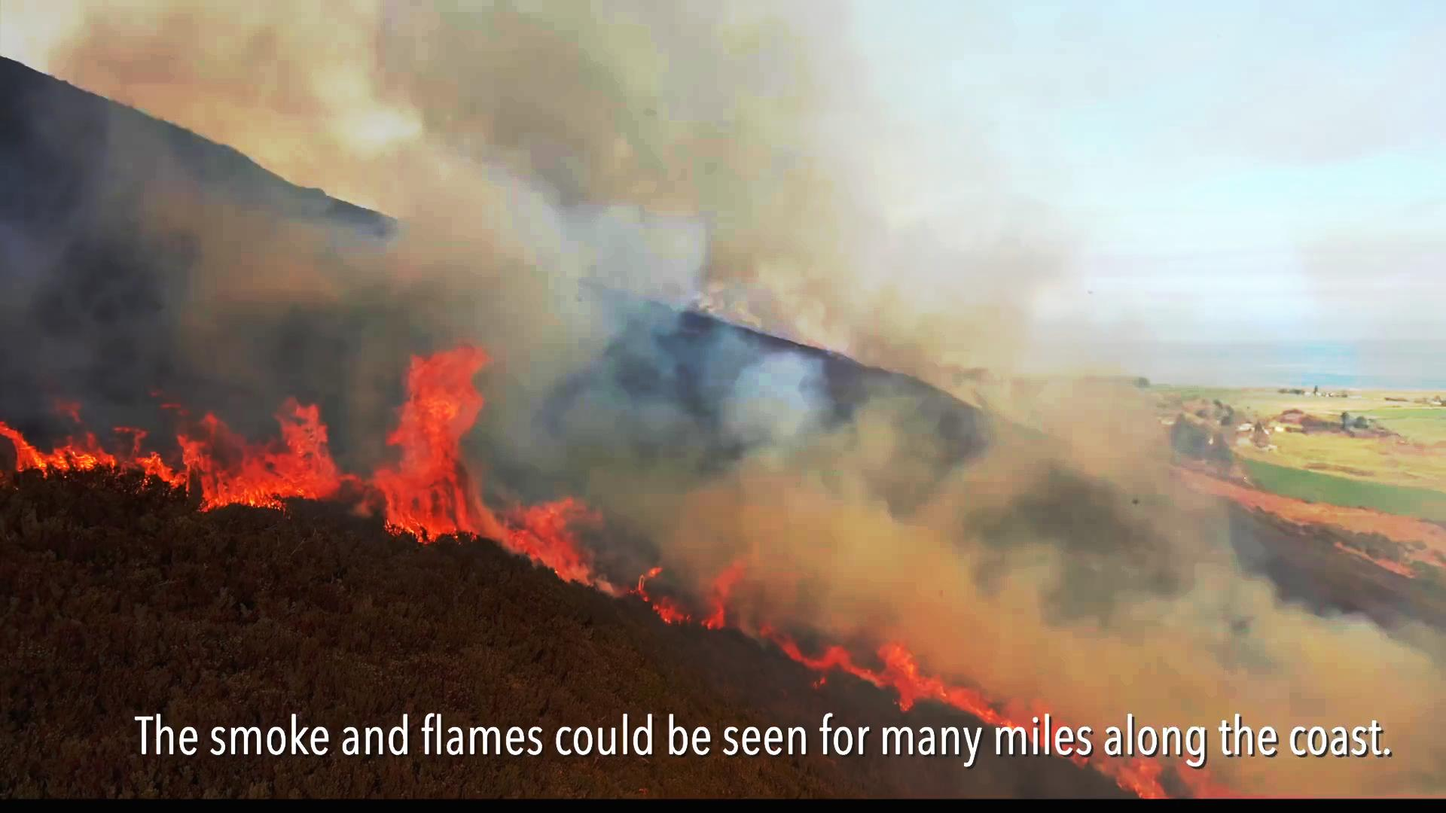fire: (380, 341, 513, 535), (188, 373, 351, 508), (0, 403, 159, 476), (505, 493, 592, 562), (853, 642, 929, 699)
smoke: (366, 4, 790, 271), (0, 0, 326, 311), (665, 339, 1081, 550)
